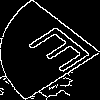E: (25, 24, 100, 82)
